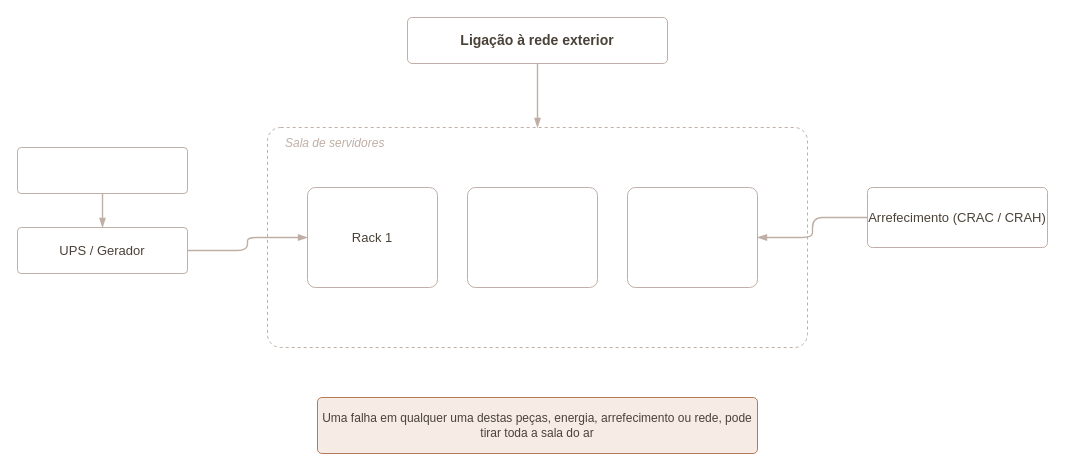
This 1065x471 diagram has some shape labels left out. The shapes that lost their labels are listed below. From the top down, each one's centre as x and y in pixels, then its label:
(x=102, y=170): Alimentação eléctrica
(x=532, y=237): Rack 2
(x=692, y=237): Rack 3
